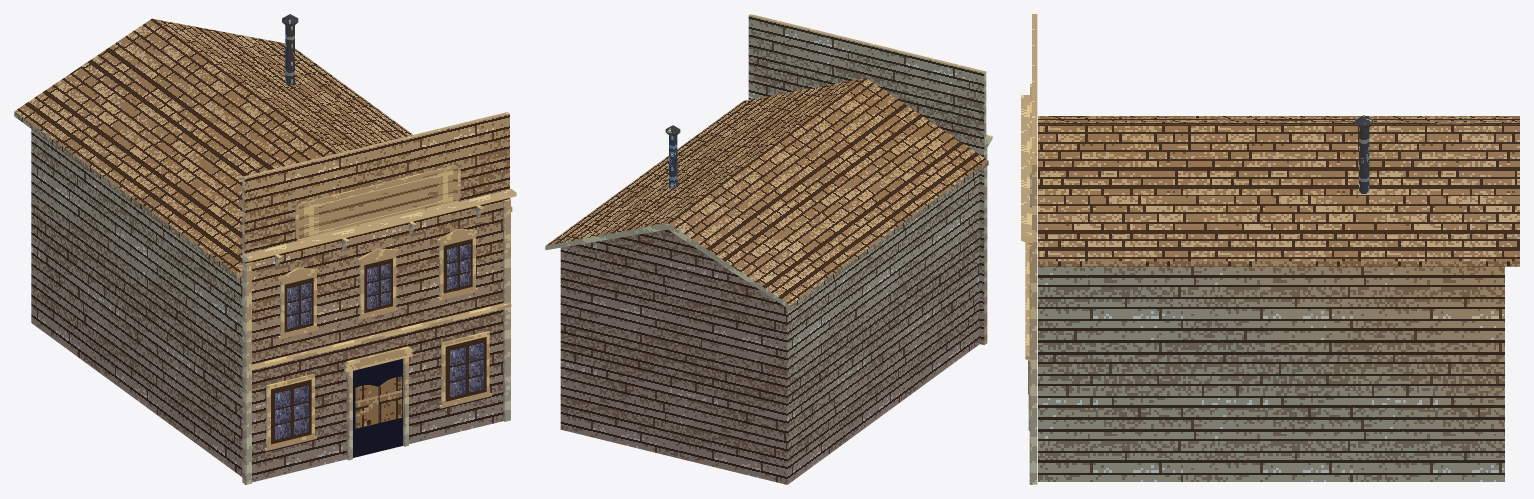
File: wtown.saloon__plain.glb
3 renders of one model, left to right at view 1: azimuth 30°, elevation 25°; view 2: azimuth 150°, elevation 25°; view 3: azimuth 270°, elevation 25°, orthographic. The views are drawn at different scales.
Visible parts, largest first — view 1: kit_front, kit_roof, kit_body, kit_card_panes, kit_trim, kit_windows, kit_door, kit_stovepipe; view 2: kit_body, kit_roof, kit_front, kit_stovepipe; view 3: kit_body, kit_roof, kit_trim, kit_front, kit_stovepipe.
Boxes of the visible parts, x1,y1,x2,y2 form: kit_front: (242, 112, 509, 483); kit_roof: (14, 18, 512, 278); kit_body: (31, 129, 242, 476); kit_card_panes: (271, 168, 486, 457); kit_trim: (242, 165, 516, 484); kit_windows: (264, 229, 491, 451); kit_door: (355, 376, 402, 428); kit_stovepipe: (282, 14, 298, 85); kit_body: (560, 172, 979, 484); kit_roof: (545, 78, 988, 309); kit_front: (748, 14, 986, 345); kit_stovepipe: (665, 125, 680, 188); kit_body: (1038, 266, 1504, 481); kit_roof: (1038, 116, 1519, 266); kit_trim: (1021, 84, 1032, 484); kit_front: (1032, 14, 1037, 484); kit_stovepipe: (1355, 115, 1372, 193).
Size of the model in its own units: 8.1 by 8.7 by 11.75.
Materials: 8 (8 with a texture image).
